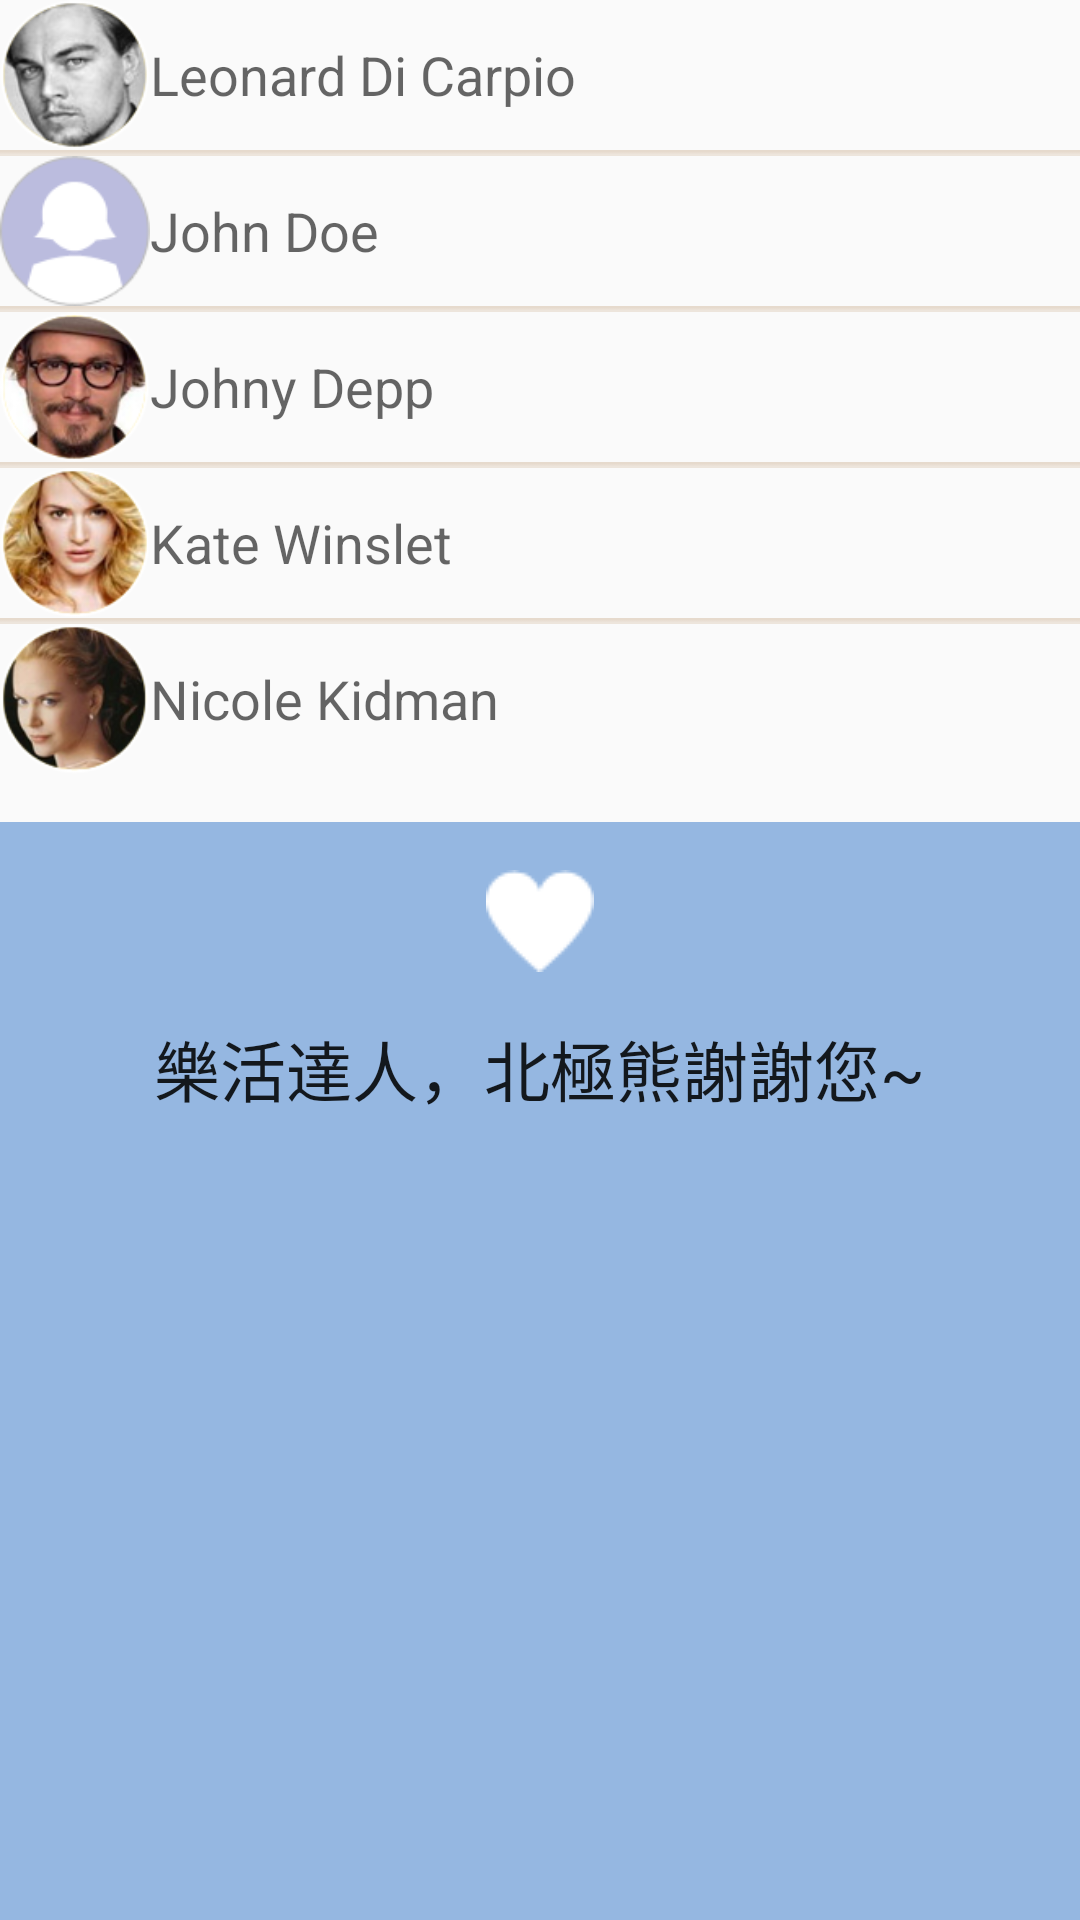

Where to tap for icons on this 1080*1920 app screen, as (x=x, y=y):
user: (x=75, y=231)
